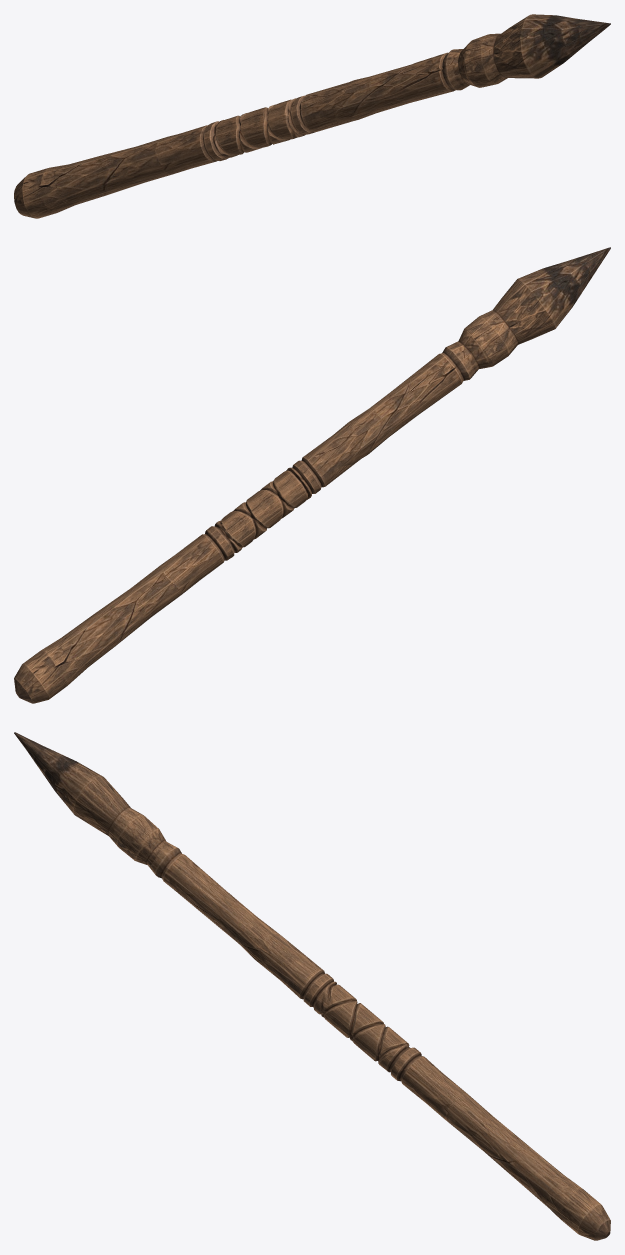
File: wooden-spear.glb
3 renders of one model, top to bottom at view 1: azimuth 90°, elevation 25°; view 2: azimuth 150°, elevation 25°; view 3: azimuth 270°, elevation 25°, orthographic. The views are drawn at different scales.
Parts seen in each view (by area): view 1: Module_native_wooden_spear; view 2: Module_native_wooden_spear; view 3: Module_native_wooden_spear.
Boxes of the visible parts, x1,y1,x2,y2 form: Module_native_wooden_spear: [14, 14, 610, 218]; Module_native_wooden_spear: [14, 247, 610, 703]; Module_native_wooden_spear: [14, 732, 610, 1240].
Size of the model in its own units: 0.8877 by 0.866 by 1.34.
Materials: 1 (1 with a texture image).
